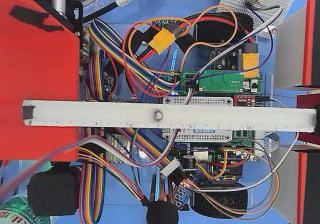ironball: (153, 108, 161, 121)
